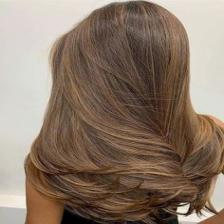brown: (26, 2, 224, 224)
